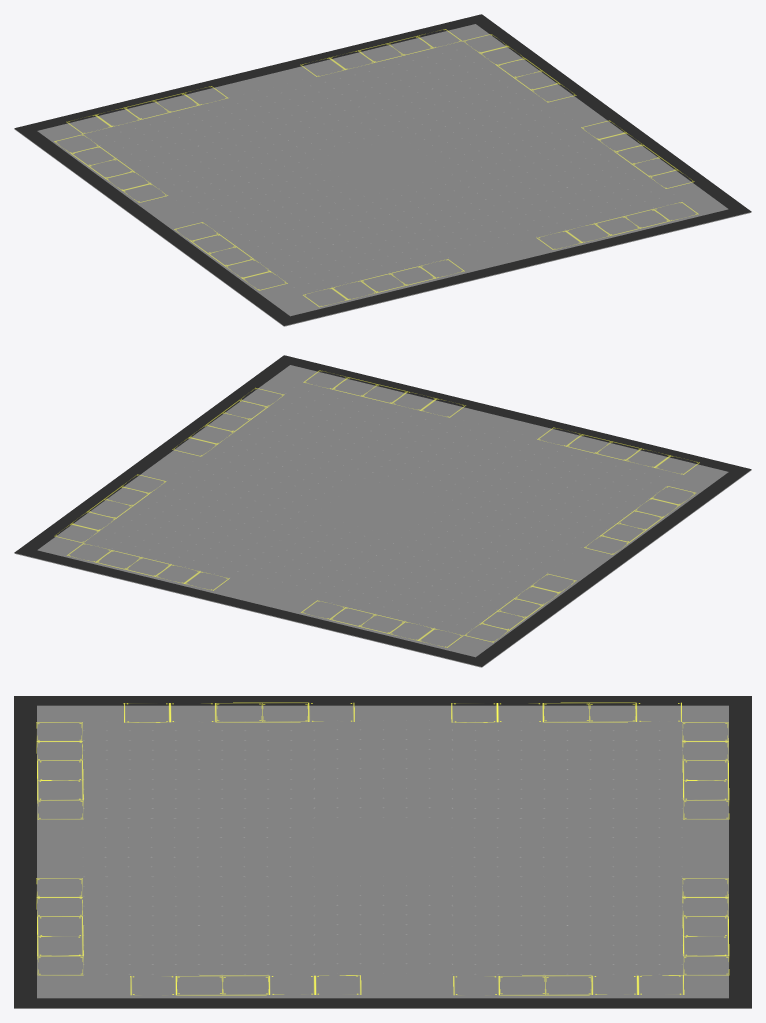
The model's file is parcel2x2NE.gltf.
The picture shows the model from 3 angles, top to bottom: view 1: azimuth 30°, elevation 25°; view 2: azimuth 150°, elevation 25°; view 3: azimuth 270°, elevation 25°; orthographic projection. The views are drawn at different scales.
Visible parts, largest first — view 1: 32x16Floor, roadEast.006, roadWest.007, roadSouth.008, roadNorth.008, roadSouth.009, roadNorth.009; view 2: 32x16Floor, roadEast.006, roadWest.007, roadNorth.009, roadSouth.008, roadNorth.008, roadSouth.009; view 3: 32x16Floor, roadEast.006, roadWest.007, roadSouth.008, roadNorth.008, roadSouth.009, roadNorth.009, 2mCornerSouth.009, 2mCornerWest.014, 2mCornerSouth.010, 2mCornerWest.016, 2mCornerNorth.013 (+3 smaller).
Part boxes in pixels (left/top/right/bottom): 32x16Floor: left=14, top=24, right=751, bottom=326; roadEast.006: left=18, top=125, right=298, bottom=325; roadWest.007: left=472, top=15, right=750, bottom=213; roadSouth.008: left=248, top=14, right=489, bottom=77; roadNorth.008: left=510, top=206, right=751, bottom=268; roadSouth.009: left=14, top=71, right=255, bottom=133; roadNorth.009: left=286, top=263, right=517, bottom=324; 32x16Floor: left=14, top=365, right=751, bottom=667; roadEast.006: left=467, top=468, right=743, bottom=666; roadWest.007: left=15, top=355, right=297, bottom=553; roadNorth.009: left=510, top=412, right=751, bottom=475; roadSouth.008: left=14, top=547, right=255, bottom=609; roadNorth.008: left=276, top=355, right=517, bottom=418; roadSouth.009: left=248, top=604, right=489, bottom=664; 32x16Floor: left=14, top=705, right=751, bottom=1008; roadEast.006: left=14, top=696, right=751, bottom=705; roadWest.007: left=14, top=998, right=751, bottom=1007; roadSouth.008: left=729, top=852, right=751, bottom=1007; roadNorth.008: left=14, top=852, right=36, bottom=1007; roadSouth.009: left=729, top=696, right=751, bottom=851; roadNorth.009: left=14, top=696, right=36, bottom=851; 2mCornerSouth.009: left=451, top=702, right=681, bottom=722; 2mCornerWest.014: left=36, top=878, right=83, bottom=975; 2mCornerSouth.010: left=123, top=702, right=354, bottom=722; 2mCornerWest.016: left=36, top=722, right=83, bottom=819; 2mCornerNorth.013: left=130, top=975, right=361, bottom=995.
Size of what is drawn, in the model's own units: 32 by 0.3 by 32.
4 materials, 4 textured.
